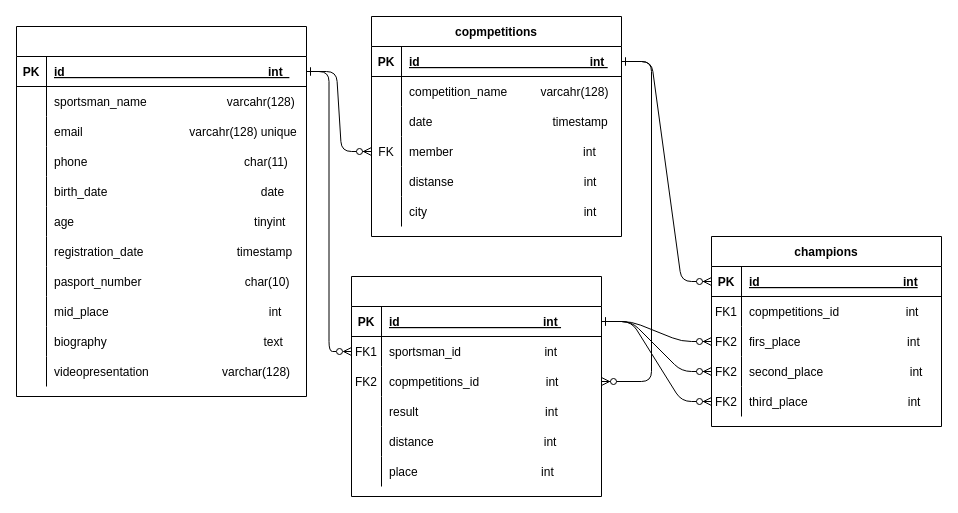
This 958x513 diagram has some shape labels left out. The shapes that lost their labels are listed below. From the top down, each one's box as (x1, y1, x2, y2) in pixels, then its label:
(16, 26, 306, 396): sporsmans
(350, 276, 602, 496): results
